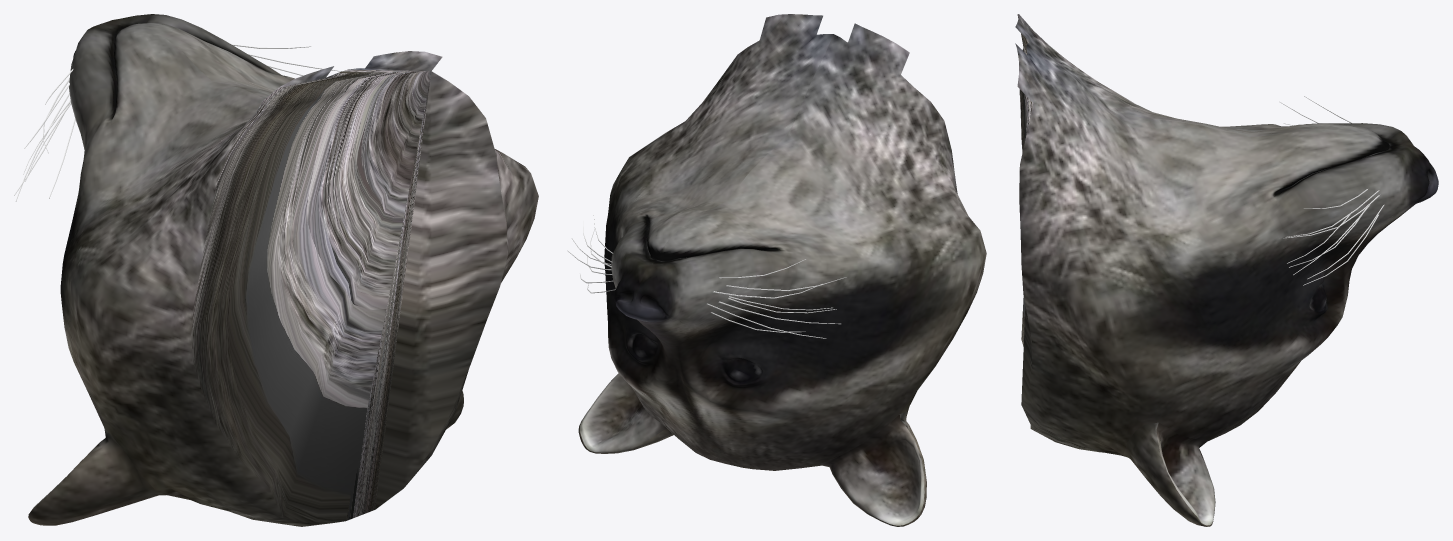
Rendered from Raccoon_Head.fbx.
The picture shows the model from 3 angles, left to right: view 1: azimuth 30°, elevation 25°; view 2: azimuth 150°, elevation 25°; view 3: azimuth 270°, elevation 25°; orthographic projection. The views are drawn at different scales.
Visible parts, largest first — view 1: 10038_Racoon_v1_L3.001; view 2: 10038_Racoon_v1_L3.001; view 3: 10038_Racoon_v1_L3.001.
Part boxes in pixels (<box>): 10038_Racoon_v1_L3.001: <box>14,14,538,526</box>; 10038_Racoon_v1_L3.001: <box>567,14,986,526</box>; 10038_Racoon_v1_L3.001: <box>1015,14,1438,526</box>.
Size of the model in its own units: 1266 by 1343 by 1248.
1 material, 1 textured.
